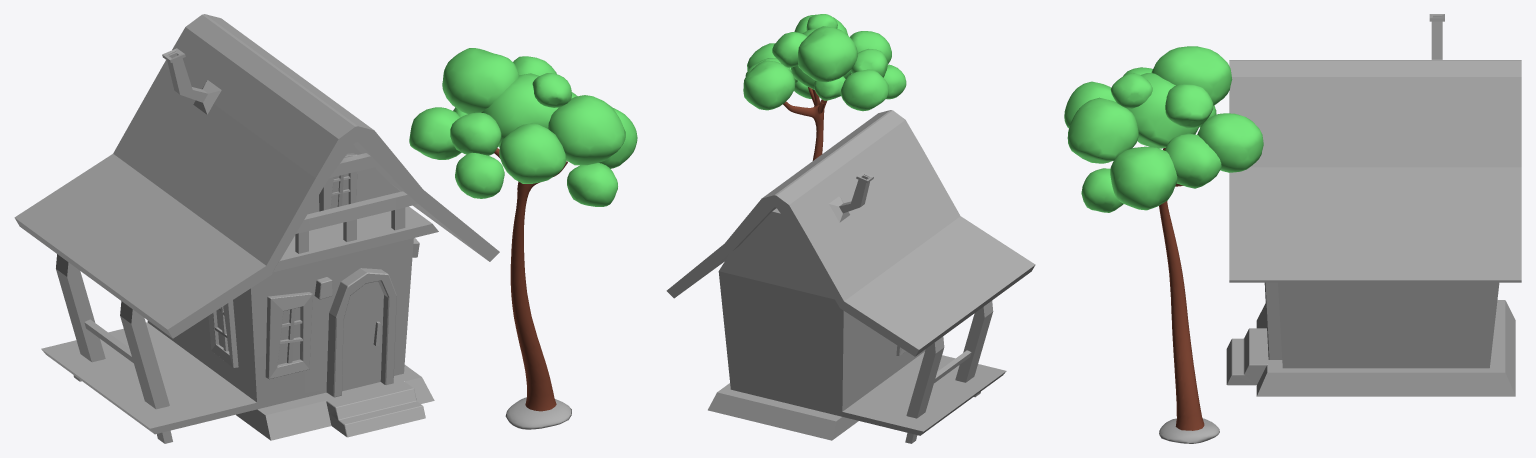
Rendered from full_scene.fbx.
3 views of the same model, side by side, from view 1: azimuth 30°, elevation 25°; view 2: azimuth 150°, elevation 25°; view 3: azimuth 270°, elevation 25° (orthographic). The views are drawn at different scales.
Parts seen in each view (by area): view 1: polySurface100, leaves2, polySurface110, polySurface108, polySurface103, polySurface101, Plane, polySurface83, polySurface82, polySurface111, polySurface105, polySurface79 (+6 smaller); view 2: polySurface100, polySurface110, leaves2, polySurface108, polySurface111, polySurface101, Plane, polySurface75; view 3: polySurface100, leaves2, polySurface110, polySurface111, Plane, polySurface105, polySurface83, polySurface122, polySurface75.
Boxes of the visible parts, x1,y1,x2,y2 form: polySurface100: (14,14,499,338); leaves2: (409,48,637,206); polySurface110: (147,145,413,409); polySurface108: (41,322,257,443); polySurface103: (273,191,438,272); polySurface101: (56,254,169,409); Plane: (494,148,567,411); polySurface83: (326,268,396,397); polySurface82: (342,281,383,391); polySurface111: (146,322,434,440); polySurface105: (326,381,425,437); polySurface79: (265,292,312,379); polySurface100: (666,110,1035,356); polySurface110: (718,208,925,416); leaves2: (743,14,906,111); polySurface108: (842,351,1006,443); polySurface111: (708,383,858,440); polySurface101: (906,300,993,418); Plane: (783,87,826,160); polySurface75: (829,172,873,222); polySurface100: (1229,60,1521,282); leaves2: (1064,46,1263,212); polySurface110: (1278,282,1499,368); polySurface111: (1256,300,1515,396); Plane: (1159,148,1204,430); polySurface105: (1226,328,1267,385); polySurface83: (1264,282,1282,359); polySurface122: (1159,418,1219,443); polySurface75: (1429,14,1444,59).
Size of what is drawn, in the model's own units: 9.49 by 8.21 by 9.39.
